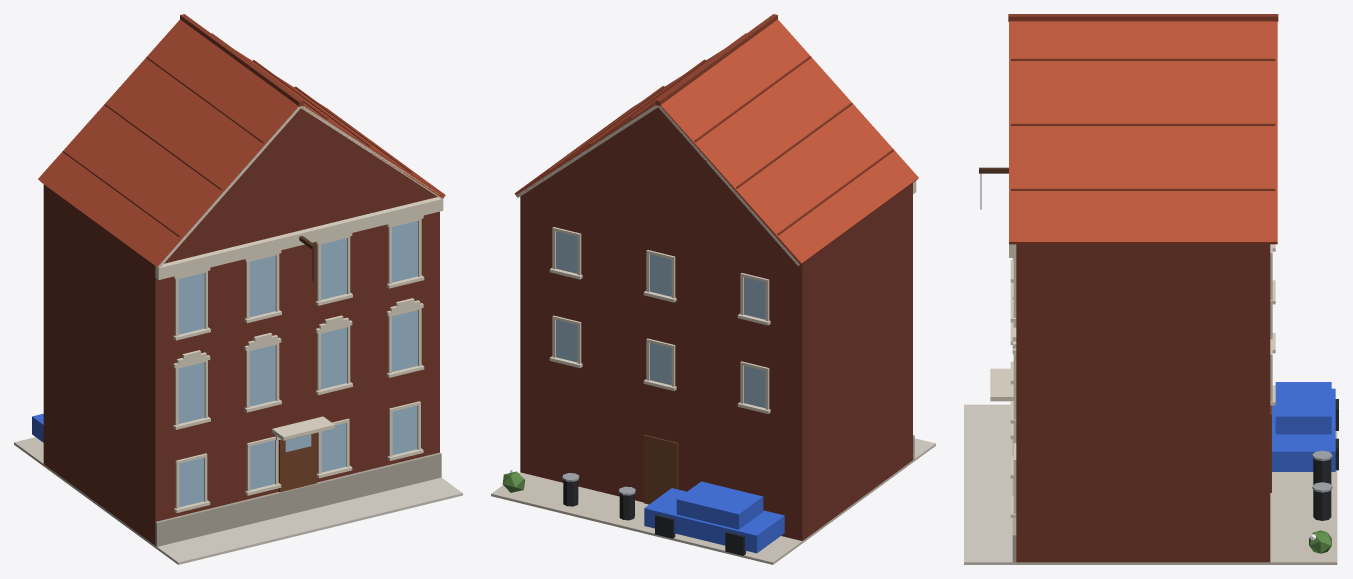
The model's file is Blok_duz_3k_7_Hafif.fbx.
3 views of the same model, side by side, from view 1: azimuth 30°, elevation 25°; view 2: azimuth 150°, elevation 25°; view 3: azimuth 270°, elevation 25° (orthographic). The views are drawn at different scales.
Parts seen in each view (by area): view 1: Blok_duz_3k_7_Hafif; view 2: Blok_duz_3k_7_Hafif; view 3: Blok_duz_3k_7_Hafif.
Boxes of the visible parts, left/top/right/bottom form: Blok_duz_3k_7_Hafif: left=14, top=14, right=462, bottom=564; Blok_duz_3k_7_Hafif: left=491, top=14, right=935, bottom=564; Blok_duz_3k_7_Hafif: left=964, top=14, right=1338, bottom=564.
Size of the model in its own units: 10.18 by 13.92 by 10.04.
